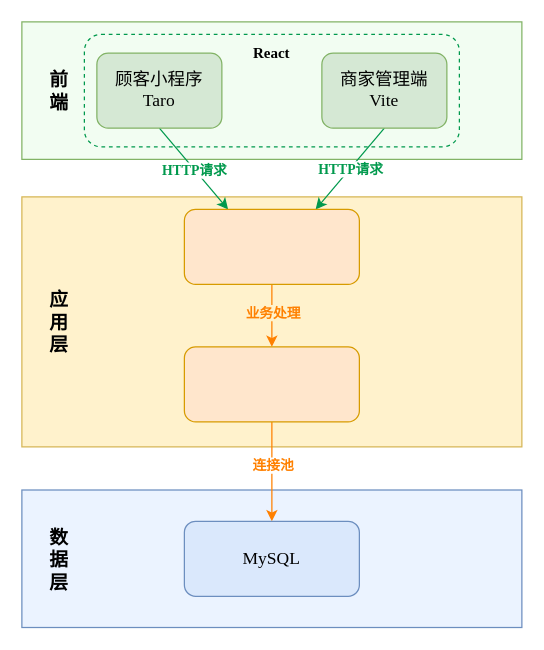
The diagram is 544 pixels wide and 650 high, and some of its shapes have lost their labels. The centre of each missing label's shape, as x and y in pixels:
"Express.js+Node.js Rest API" belongs at (x=271, y=246).
"业务逻辑" belongs at (x=271, y=384).
